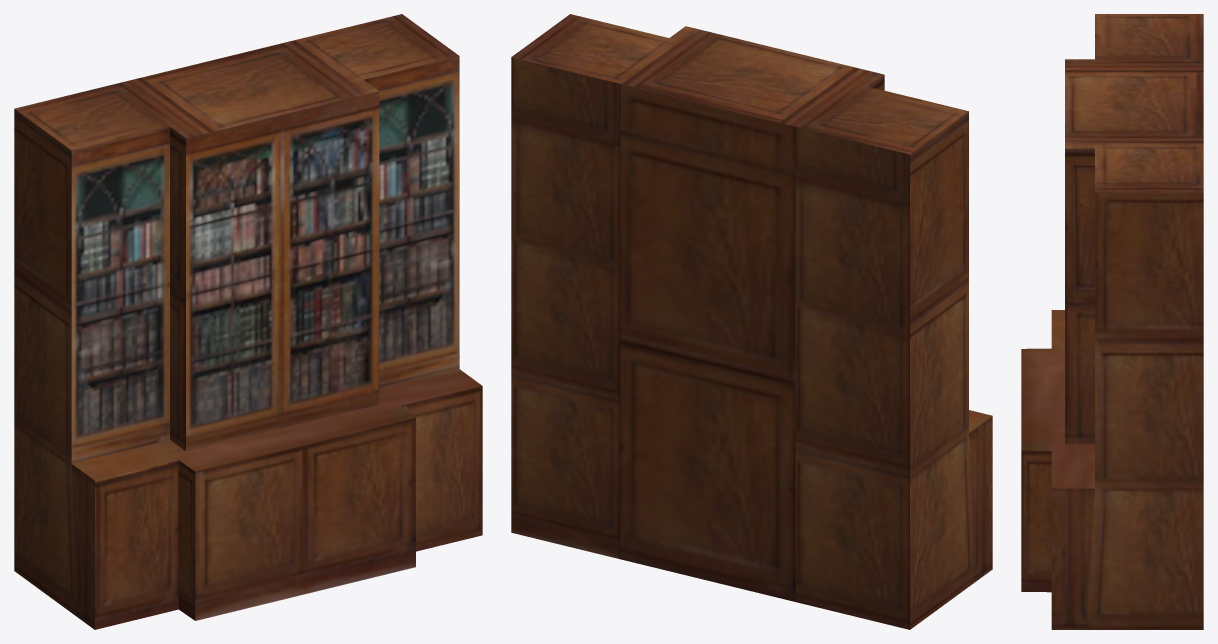
Rendered from estante_b.glb.
3 renders of one model, left to right at view 1: azimuth 30°, elevation 25°; view 2: azimuth 150°, elevation 25°; view 3: azimuth 270°, elevation 25°, orthographic. The views are drawn at different scales.
Parts seen in each view (by area): view 1: estante_b; view 2: estante_b; view 3: estante_b.
Part boxes in pixels (x1,y1,x2,y2): estante_b: (14, 14, 482, 629); estante_b: (511, 14, 992, 629); estante_b: (1021, 14, 1203, 629).
Size of the model in its own units: 1.66 by 1.89 by 0.7168.
1 material, 1 textured.
